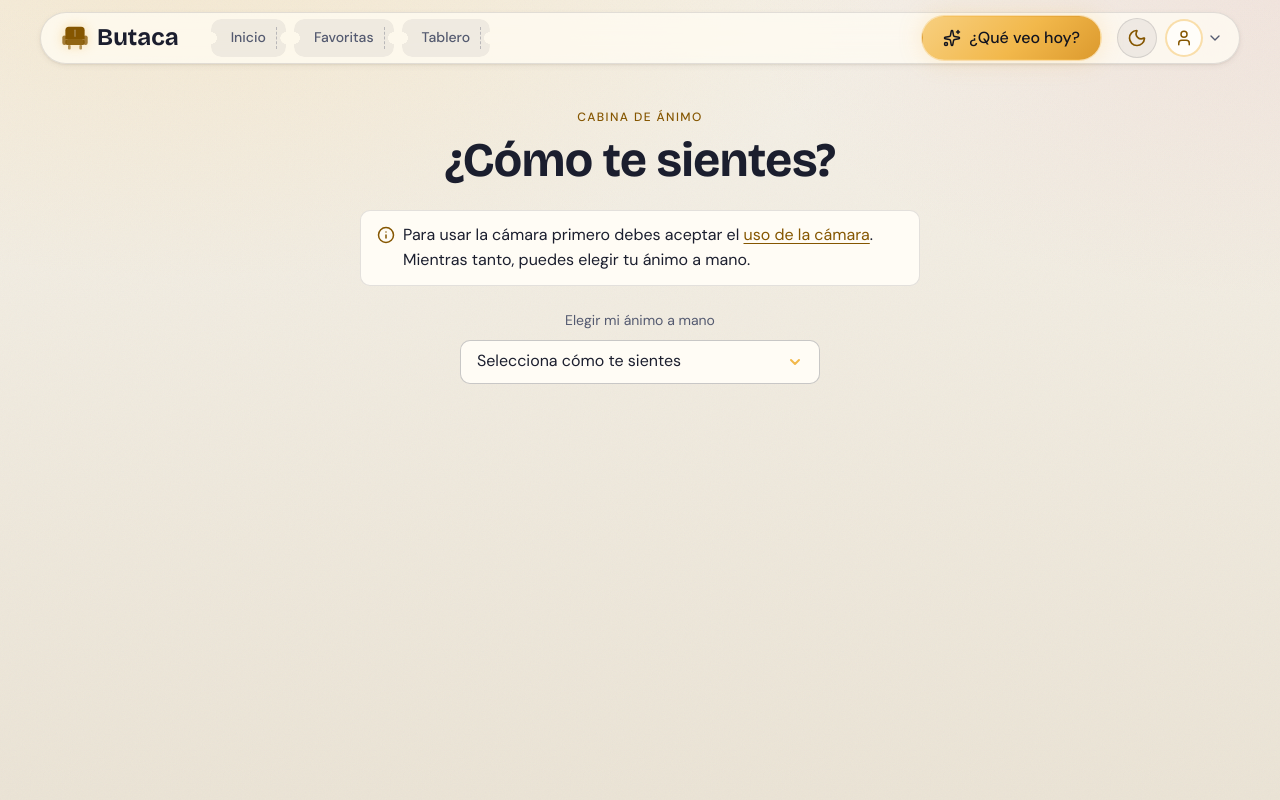
Test: acompañar o cambiar el ánimo › elegir "Cambiarlo" muestra la ruta y cambia las recomendaciones
Select "Triste" in the dropdown with test id "selector-animo-manual". click: (640, 362)
box: [460,340,820,384]
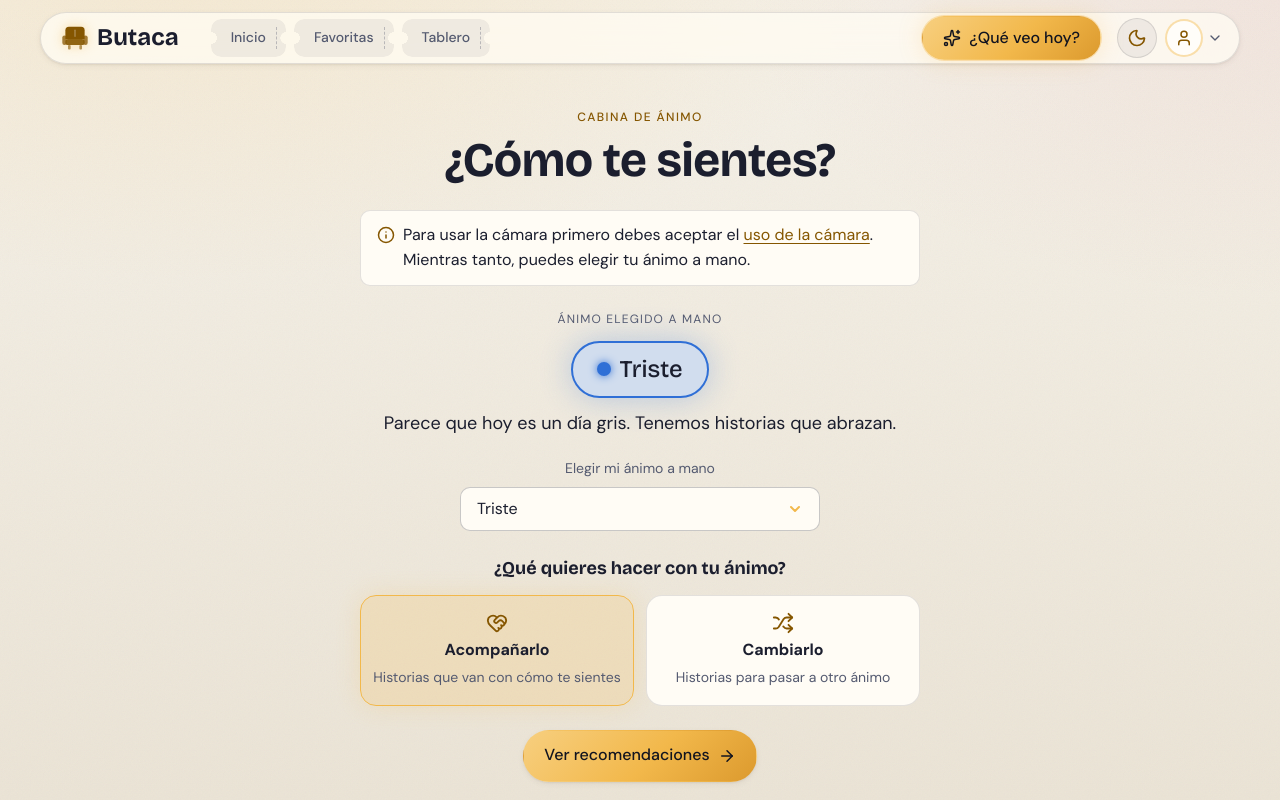
Click the button with test id "intencion-cambiar". click: (783, 651)
box: [646,595,920,706]
(page scrolled)
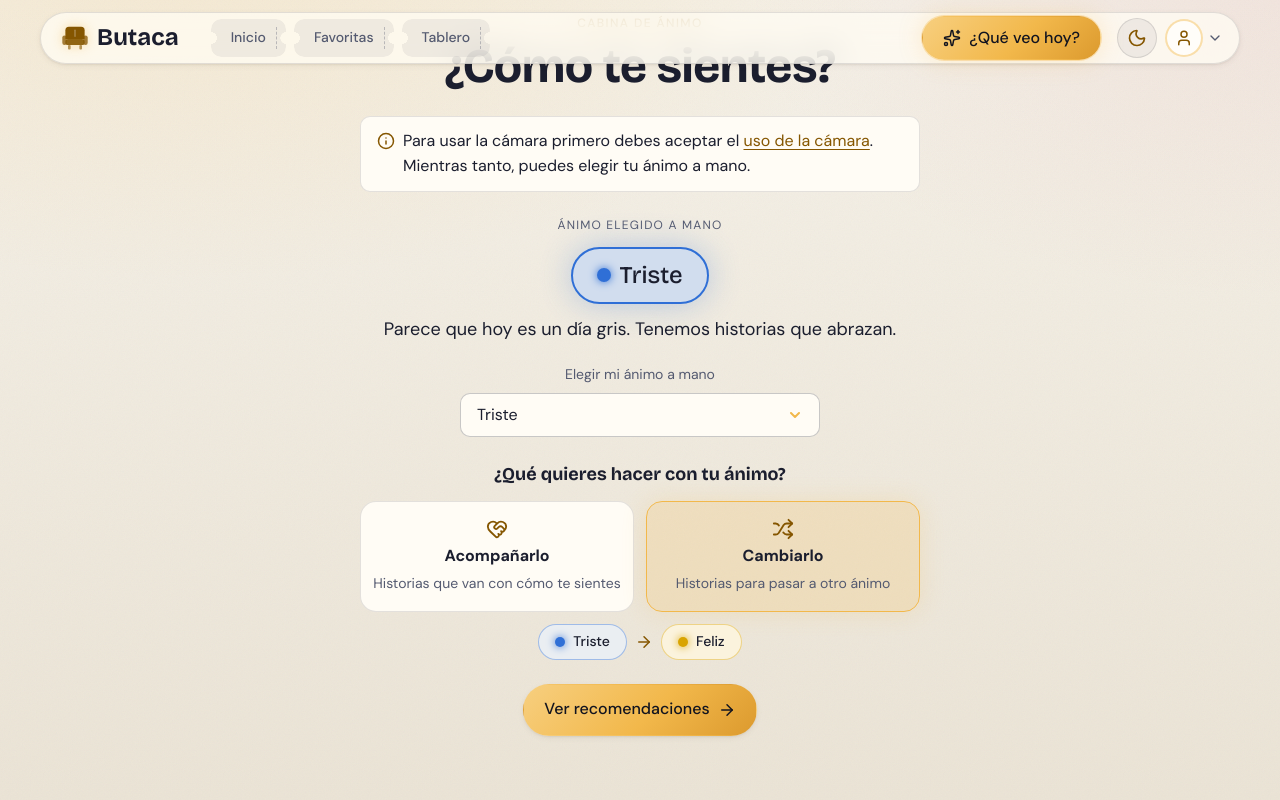
Result: the element with test id "ruta-animo" reads "Triste Feliz" at [538,624,742,660]
Click the link "Ver recomendaciones". click: (640, 710)
box: [523,684,757,736]
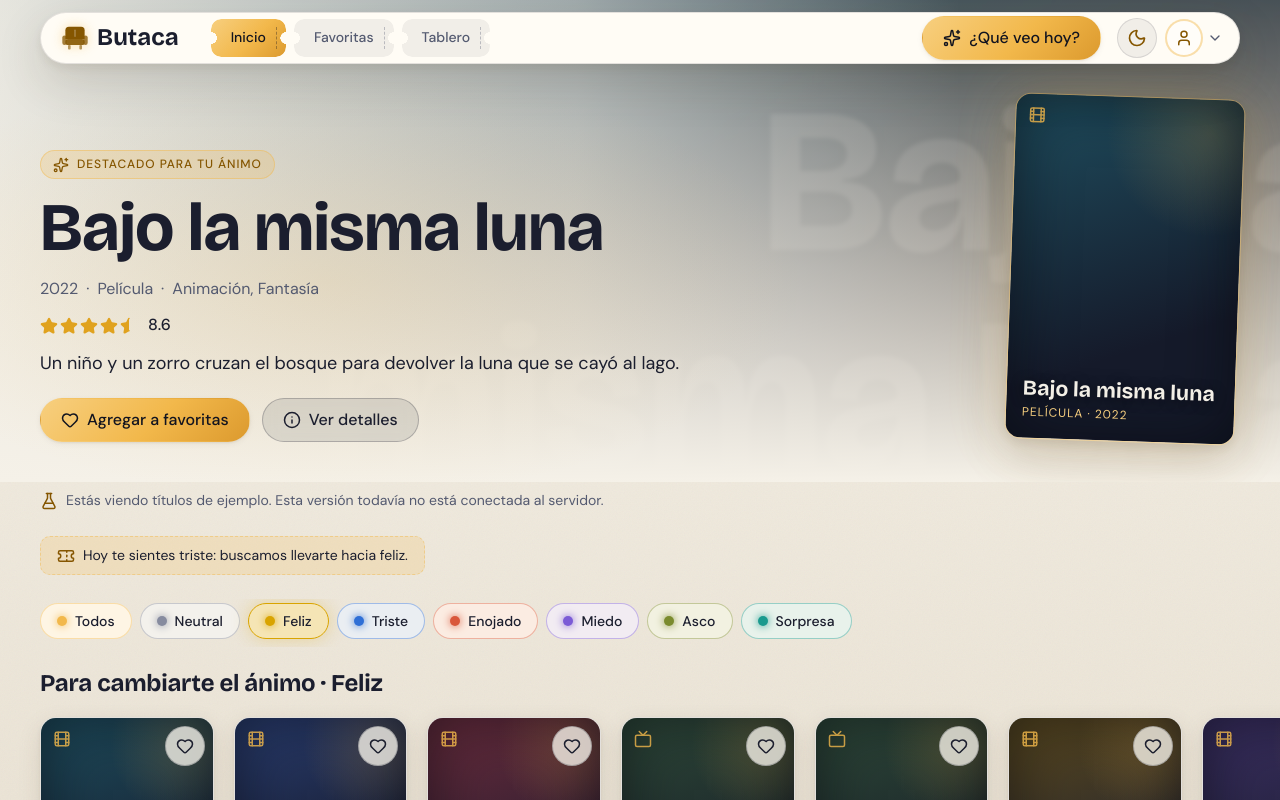
Result: the heading "Para cambiarte el ánimo · Feliz" is shown at [40,671,383,697]
Result: the element with test id "resumen-funcion" shows "buscamos llevarte hacia feliz" at [220,546,405,564]
